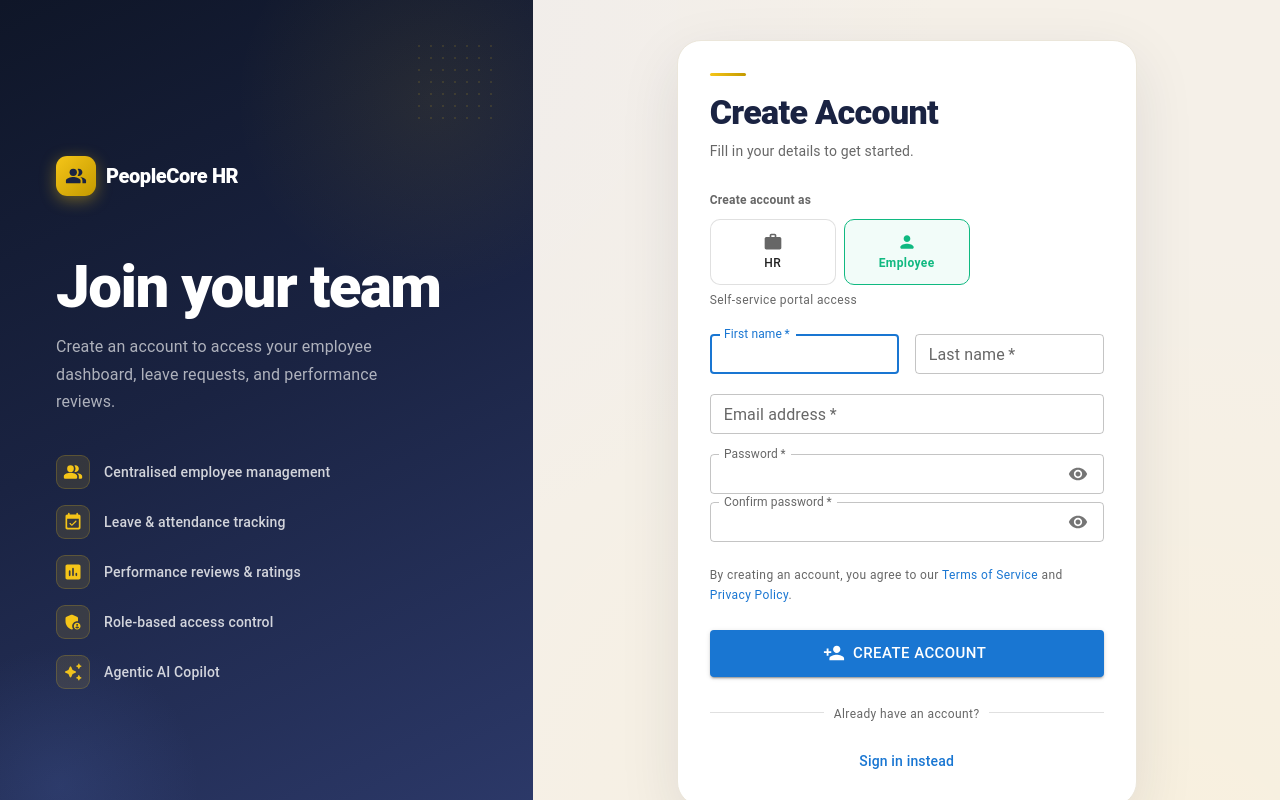
Test case: RegisterPage › Validation › shows password too short error
Type "short" into the password field labelled "Password *".
click(882, 474); type("short")  # box [710,454,1055,494]
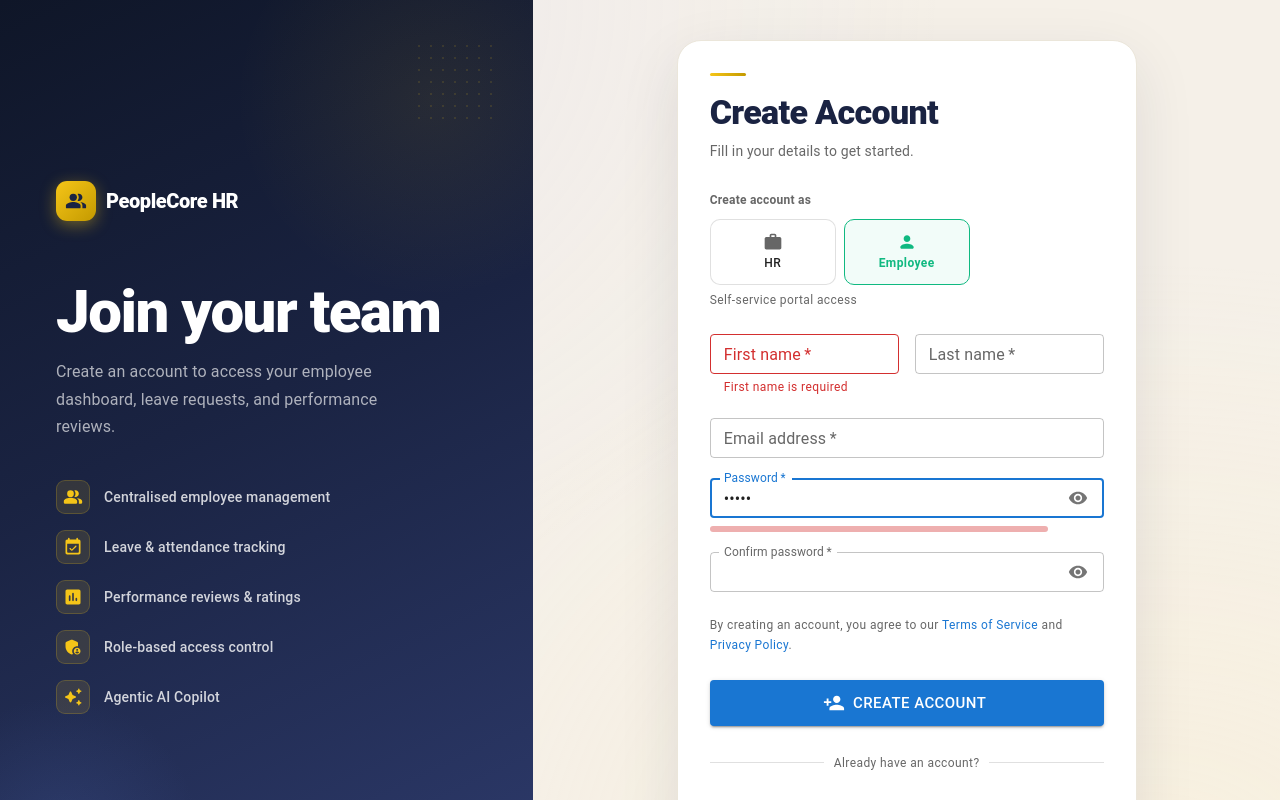
Click the button "Create Account".
click(907, 703)  # box [710,680,1104,726]
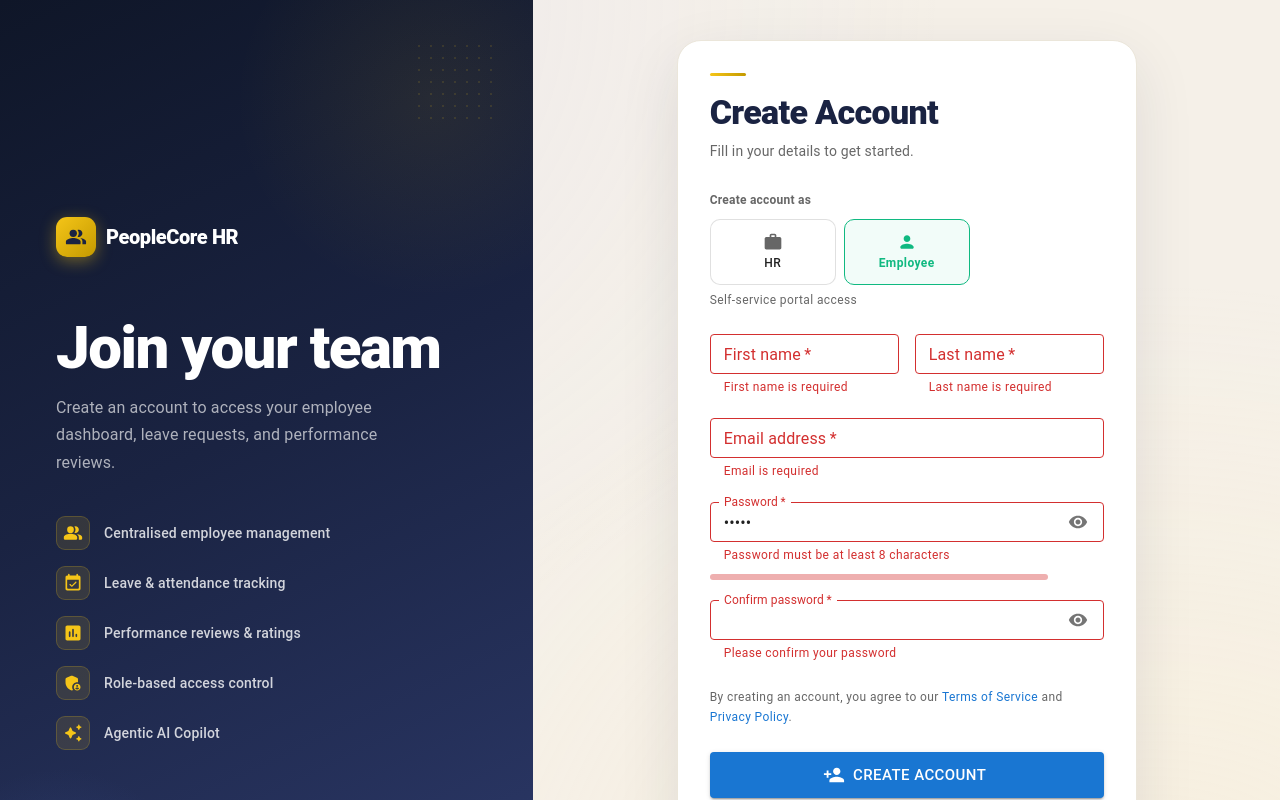
Result: the text "Password must be at least 8 characters" is shown at [724,548,950,562]
